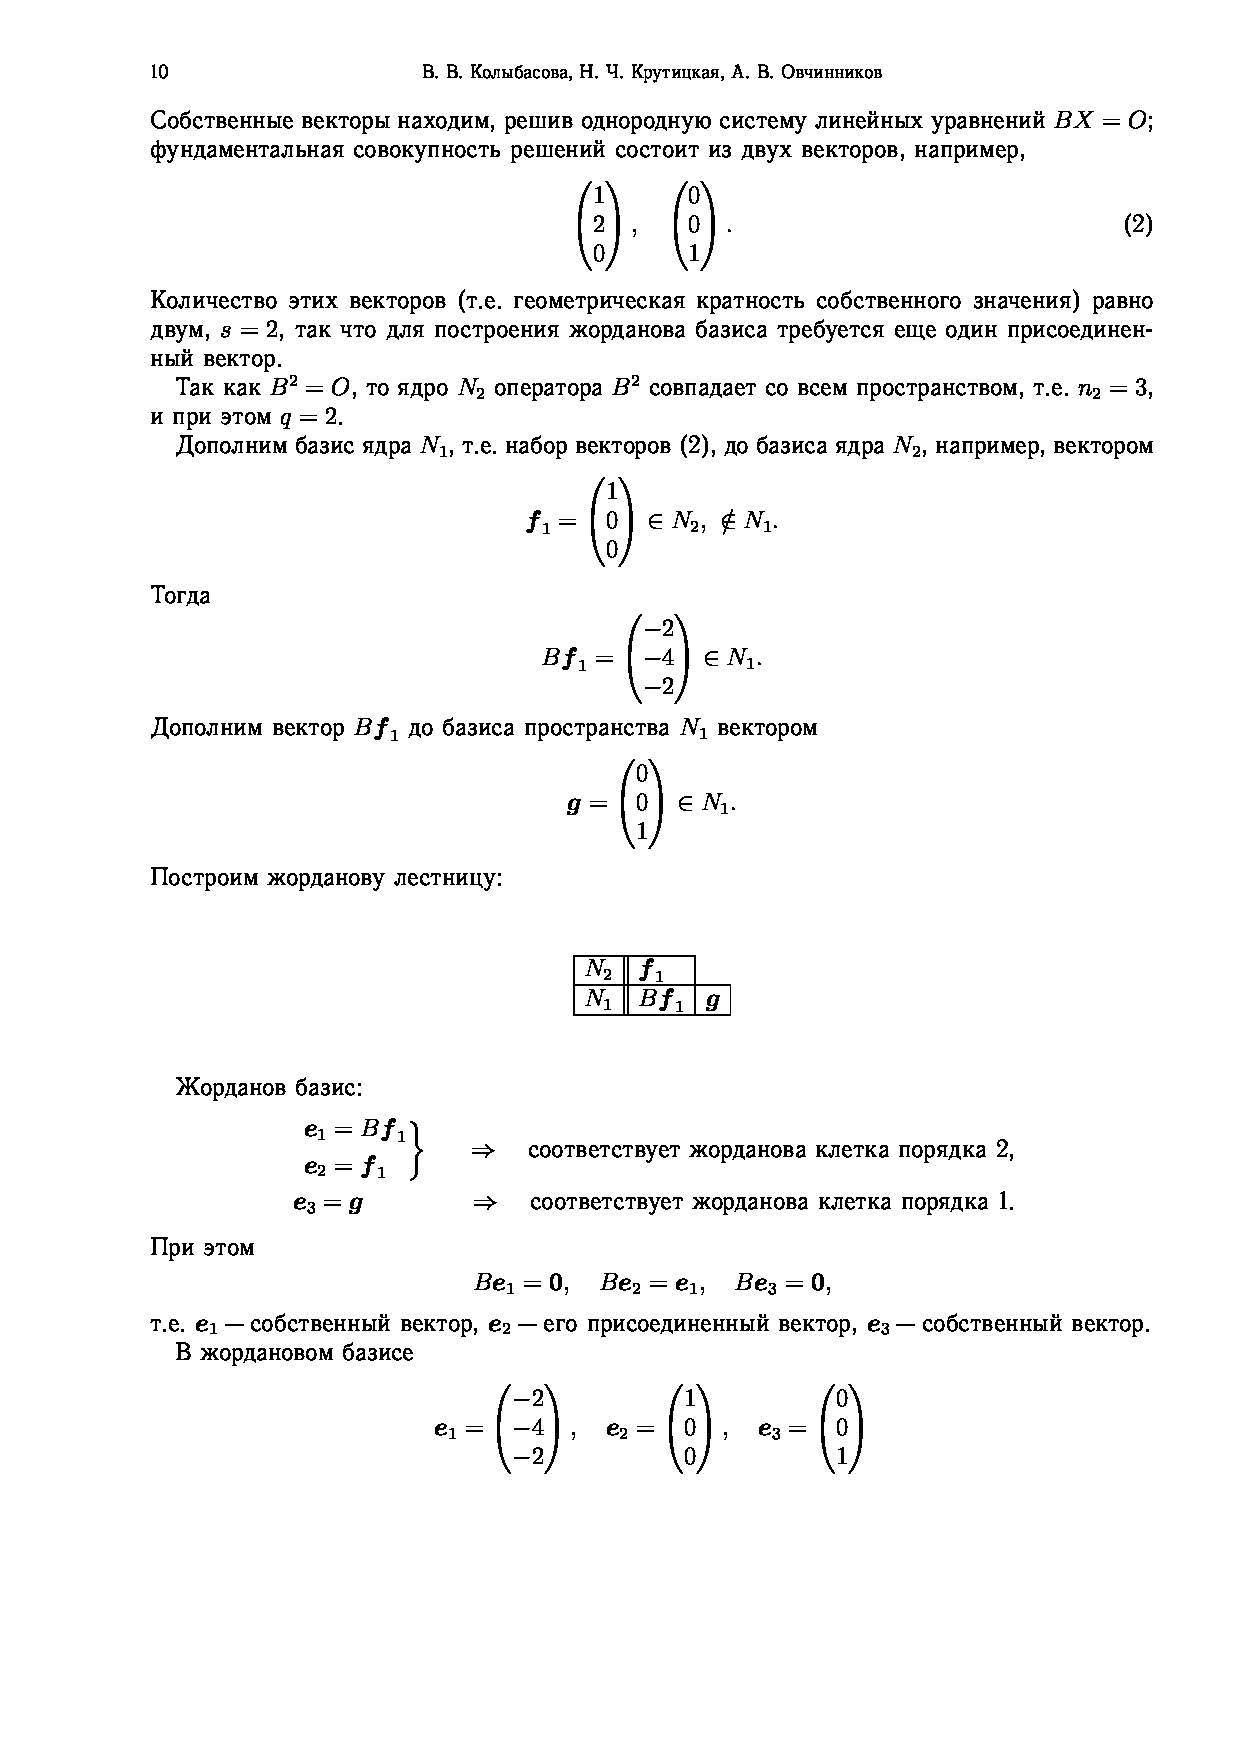pMatrix: (621, 611, 691, 709), (495, 1380, 562, 1480), (671, 180, 722, 276), (590, 472, 637, 573), (620, 758, 668, 854), (574, 183, 624, 275), (819, 1382, 866, 1476), (668, 1384, 713, 1476)
